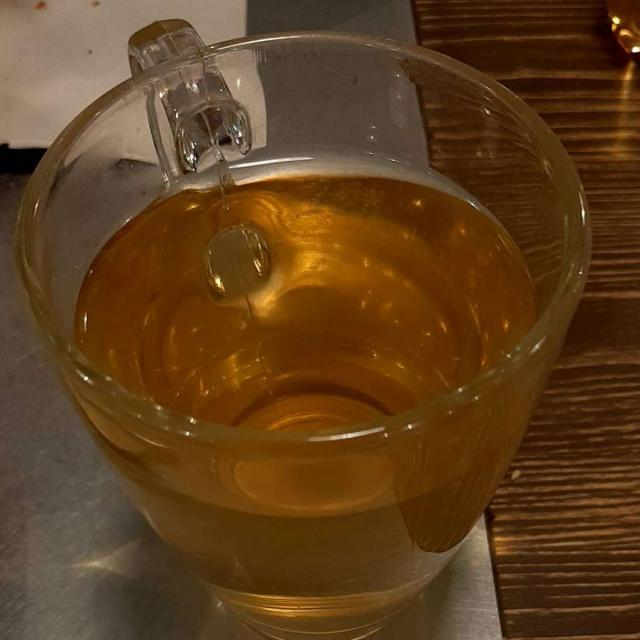tea-green: (66, 173, 532, 611)
